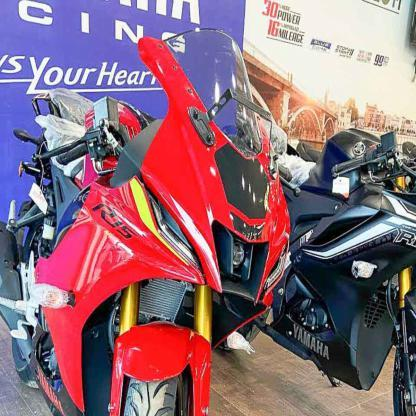Motorcycle: (3, 23, 293, 416), (293, 112, 416, 415)
